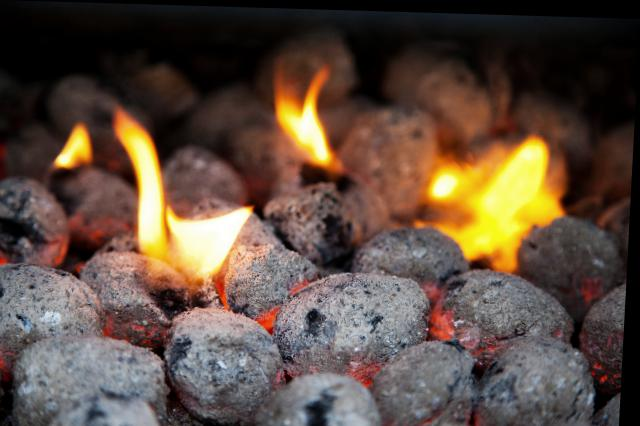fire: (104, 106, 259, 281), (421, 128, 568, 268), (269, 63, 352, 170), (51, 112, 97, 175)
